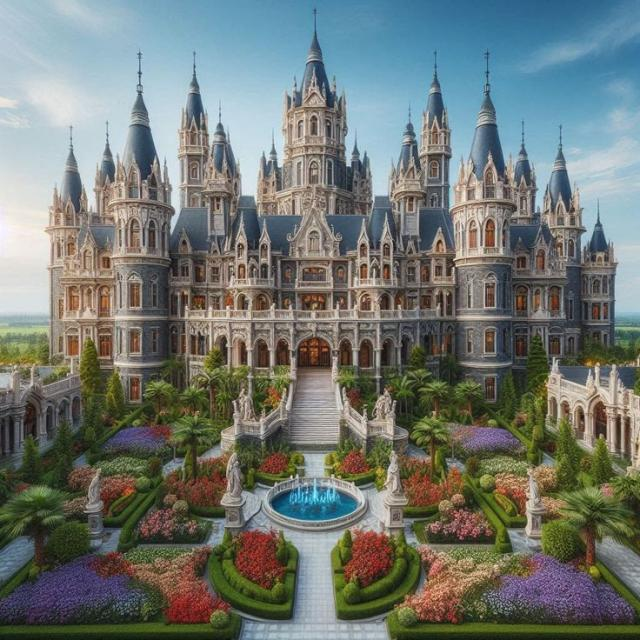castle: (41, 13, 618, 386)
